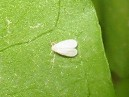whitefly: (51, 38, 78, 57)
